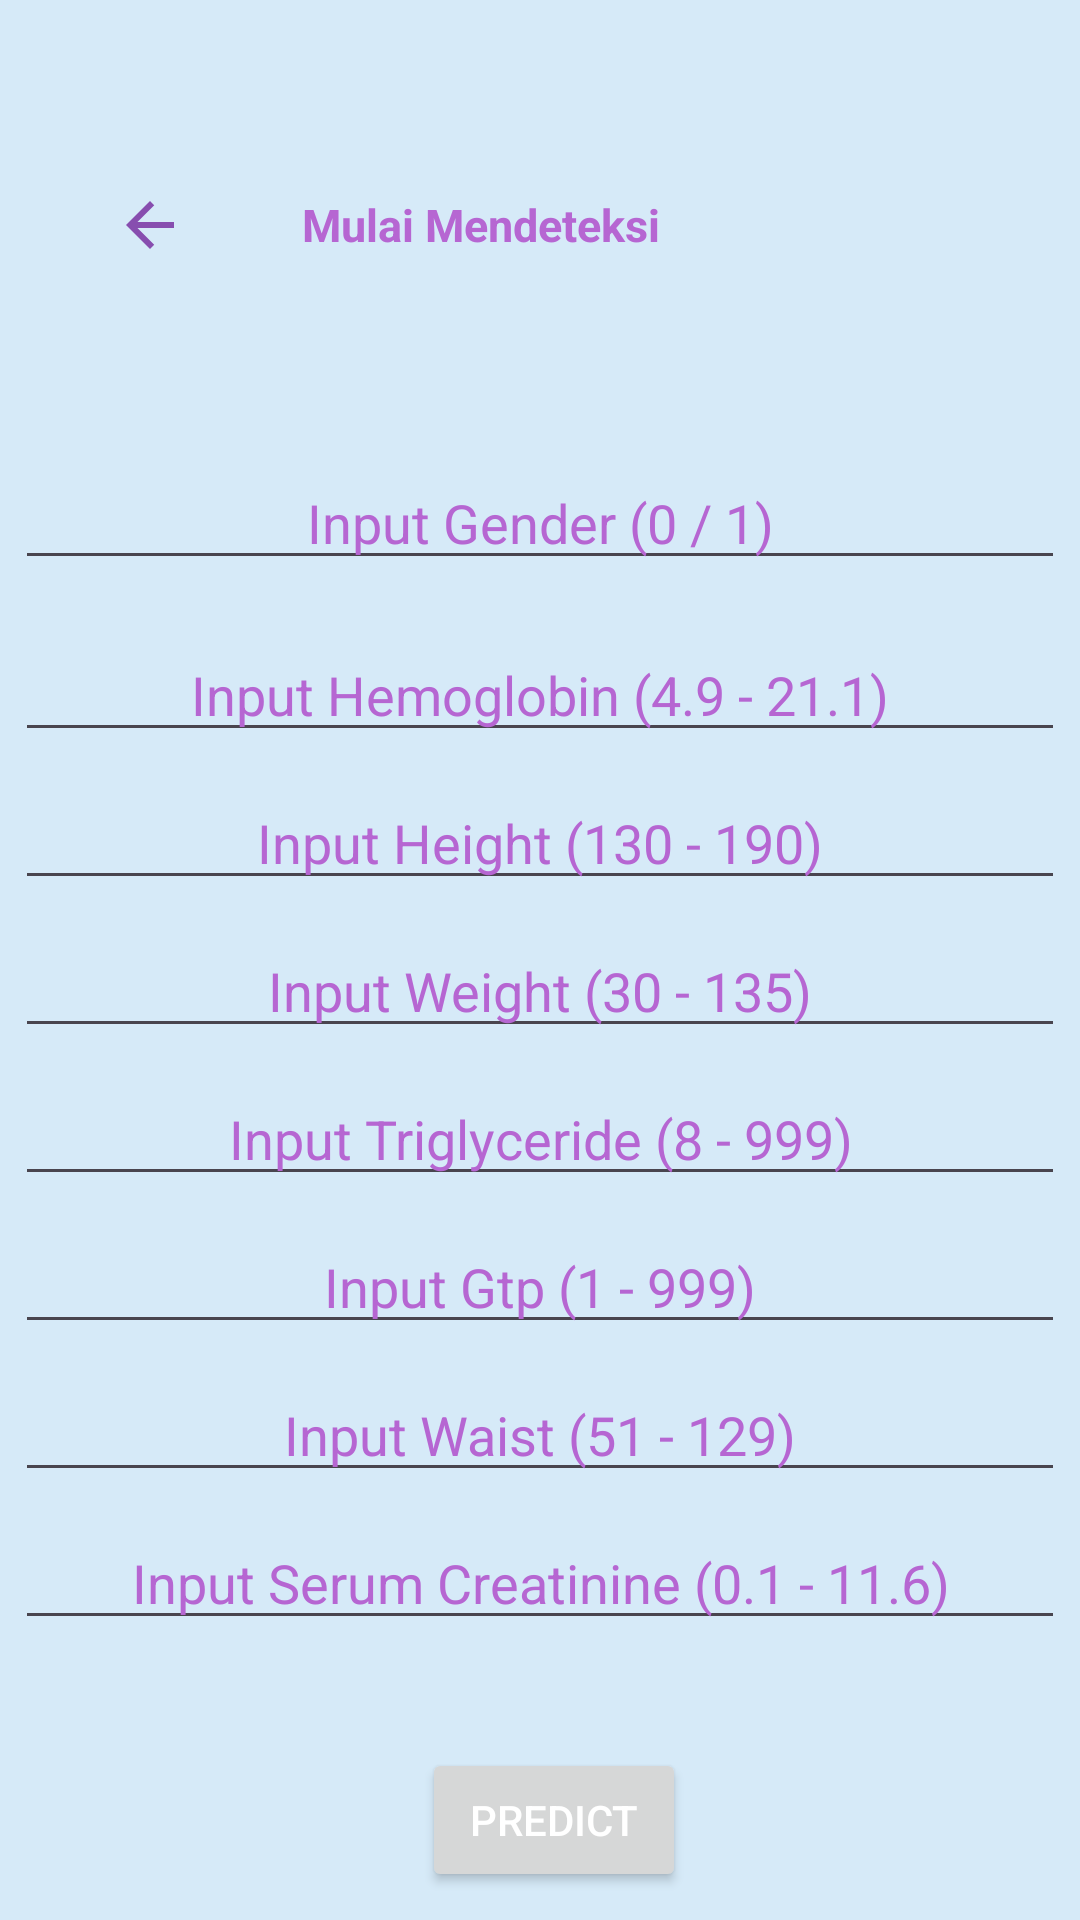

Screen size 1080px×1920px. Icon name, then its box in pixels as BBox(x1, y1, x2, y2):
back: BBox(126, 201, 174, 249)
